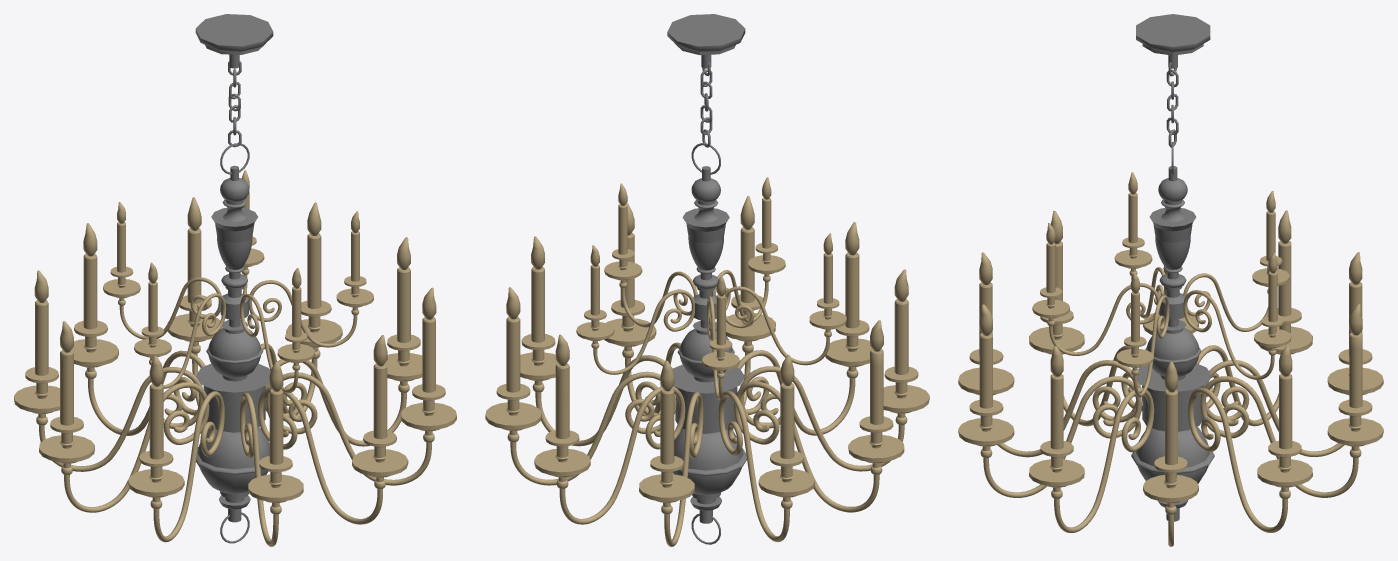
The model's file is Chandelier.fbx.
3 renders of one model, left to right at view 1: azimuth 30°, elevation 25°; view 2: azimuth 150°, elevation 25°; view 3: azimuth 270°, elevation 25°, orthographic.
Visible parts, largest first — view 1: candleholder, Chandelier; view 2: candleholder, Chandelier; view 3: candleholder, Chandelier.
Boxes of the visible parts, bbox=[...] form: candleholder: bbox=[14, 170, 456, 546]; Chandelier: bbox=[195, 14, 273, 543]; candleholder: bbox=[485, 177, 929, 546]; Chandelier: bbox=[667, 14, 746, 544]; candleholder: bbox=[958, 172, 1383, 546]; Chandelier: bbox=[1131, 14, 1214, 521].
Bounding box in the file's own units: 104 × 133 × 99.8.
